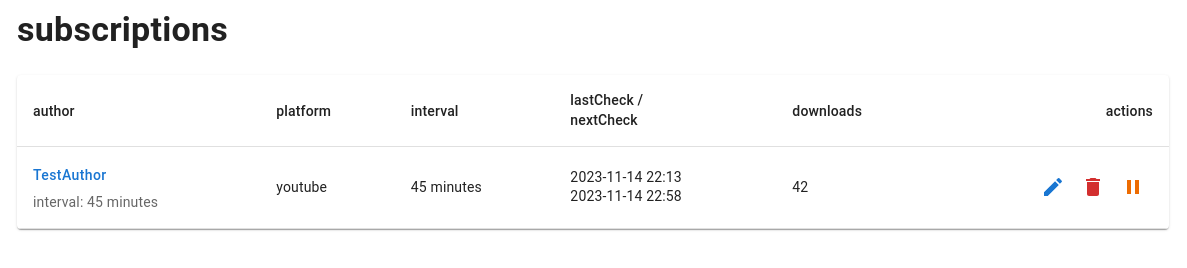
Test: SubscriptionsPage › shows interval details and allows interval editing on mobile layout
The width and height of the screenshot is (1187, 268).
Expected: the text "interval: 45 minutes" is shown, [33, 194, 158, 210]
Click the button titled "editInterval". click: coordinates (1053, 187)
box: [1033, 167, 1073, 207]
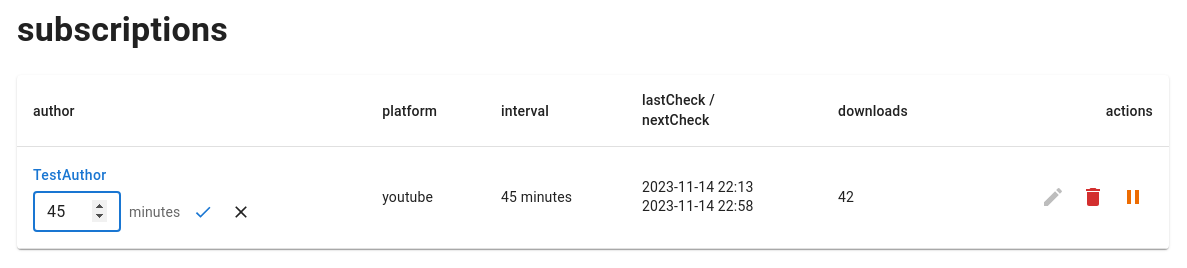
Expected: the number field named "checkIntervalMinutes" is shown, [33, 192, 121, 232]
Expected: the text "interval: 45 minutes" is gone
